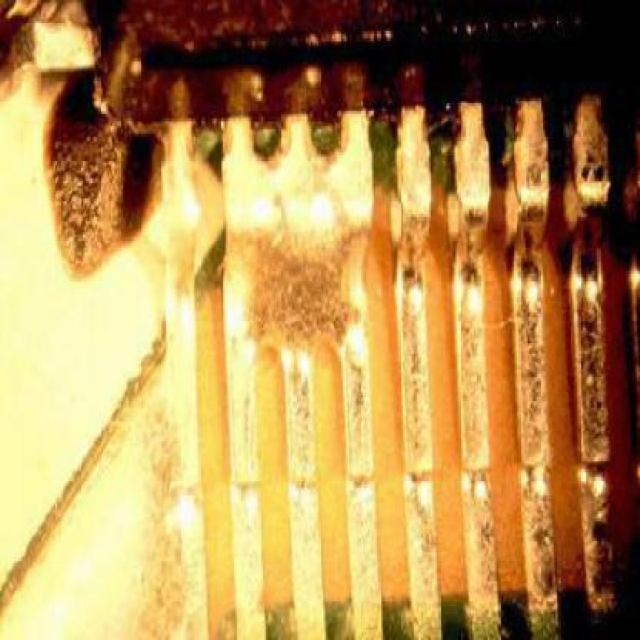Soldering shorted: (215, 106, 374, 337)
